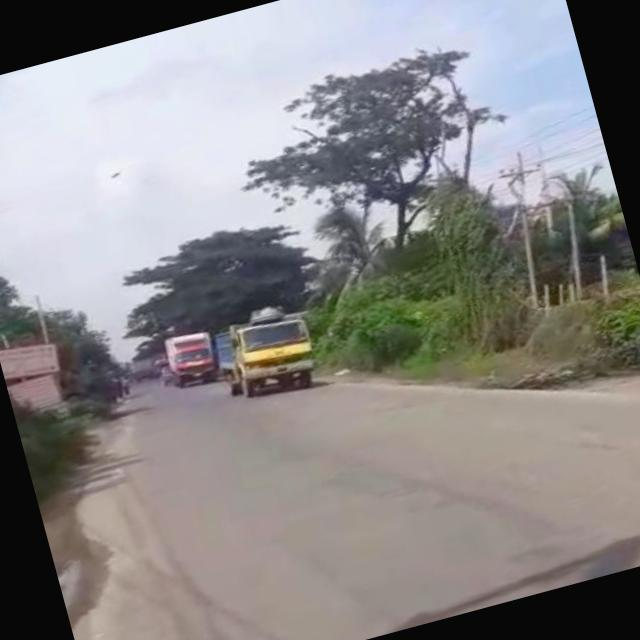truck: (204, 300, 318, 408), (156, 326, 219, 388)
